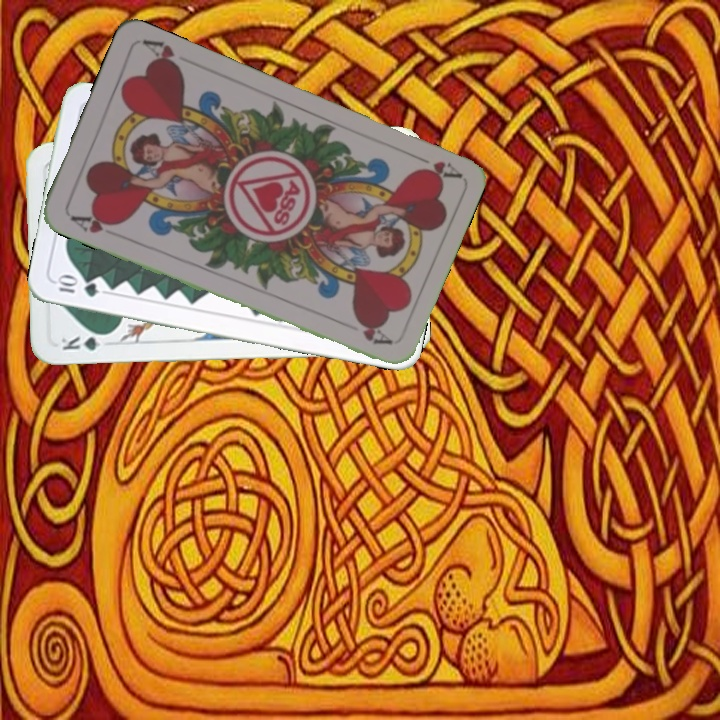G10: (52, 273, 102, 300)
GK: (57, 330, 114, 353)
HA: (405, 149, 462, 184), (66, 209, 122, 236)
